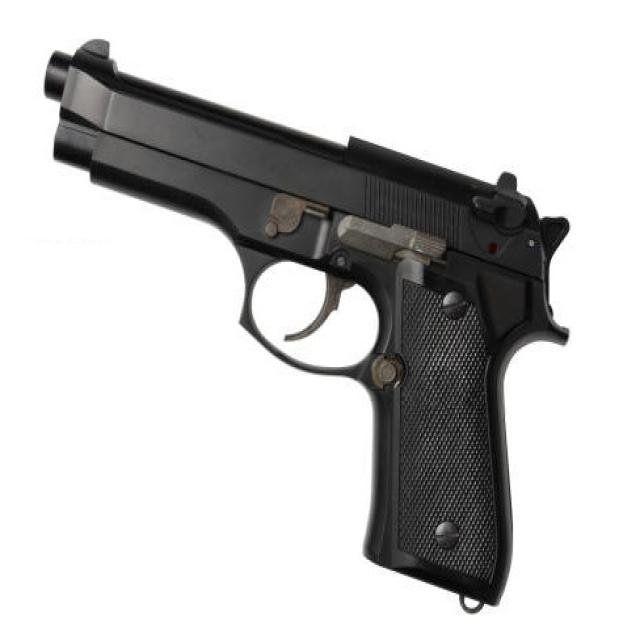pistol: (39, 30, 585, 618)
